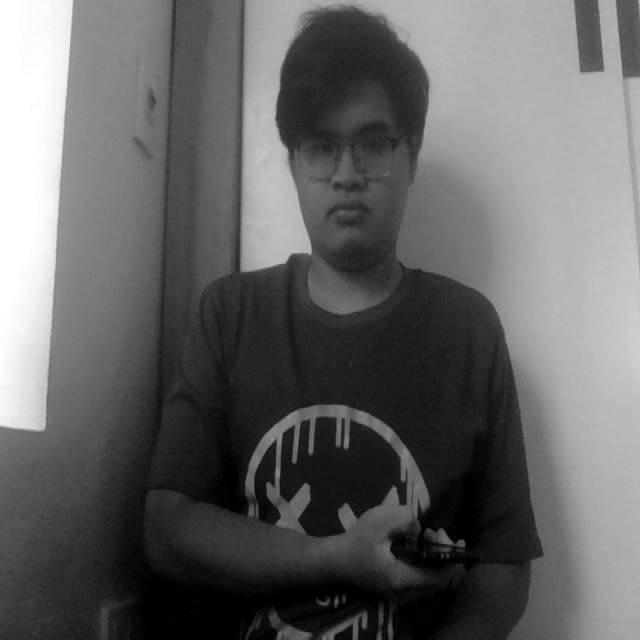phone: (381, 508, 472, 588)
